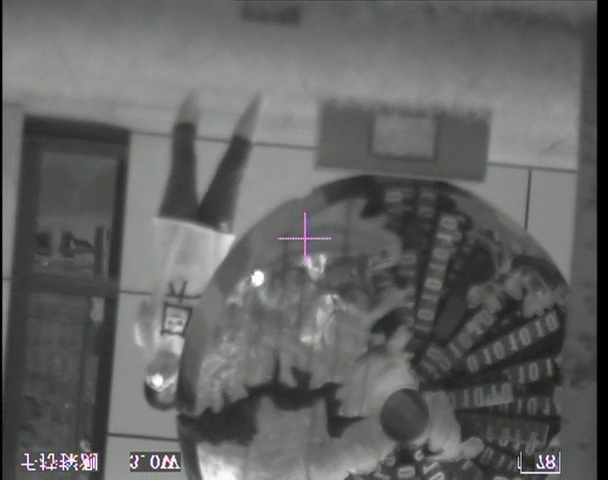my: (149, 372, 163, 387)
